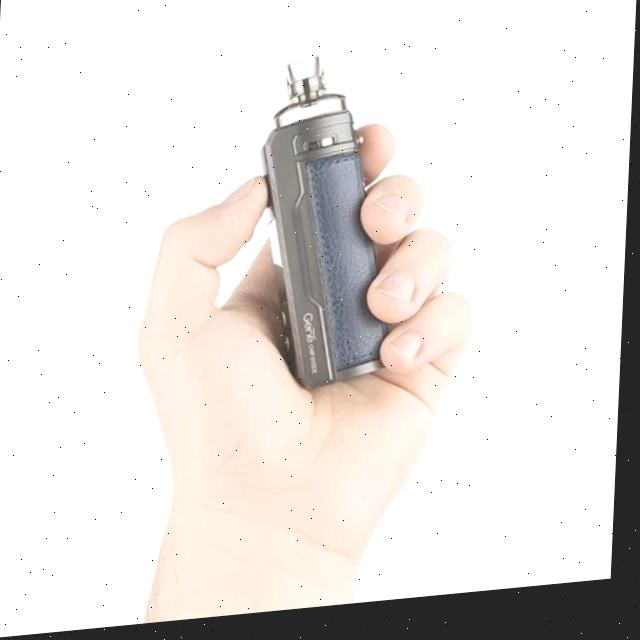vape: (252, 56, 404, 401)
